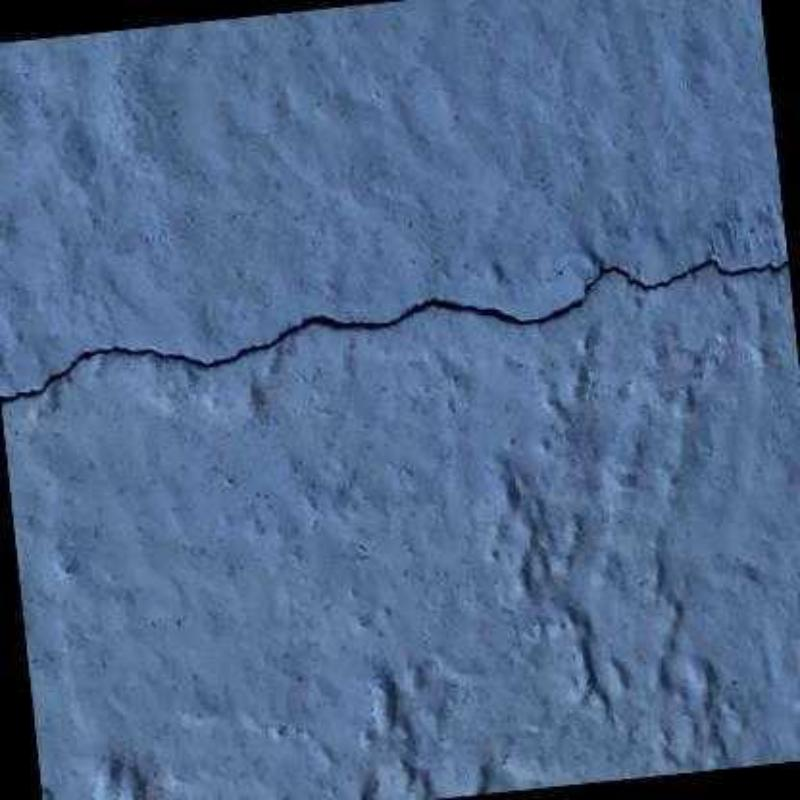pothole: (0, 242, 789, 414)
